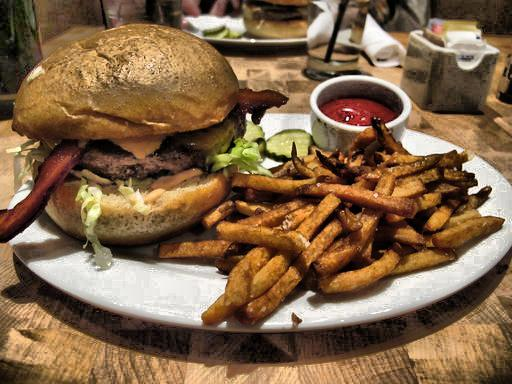burger: (13, 25, 275, 255)
